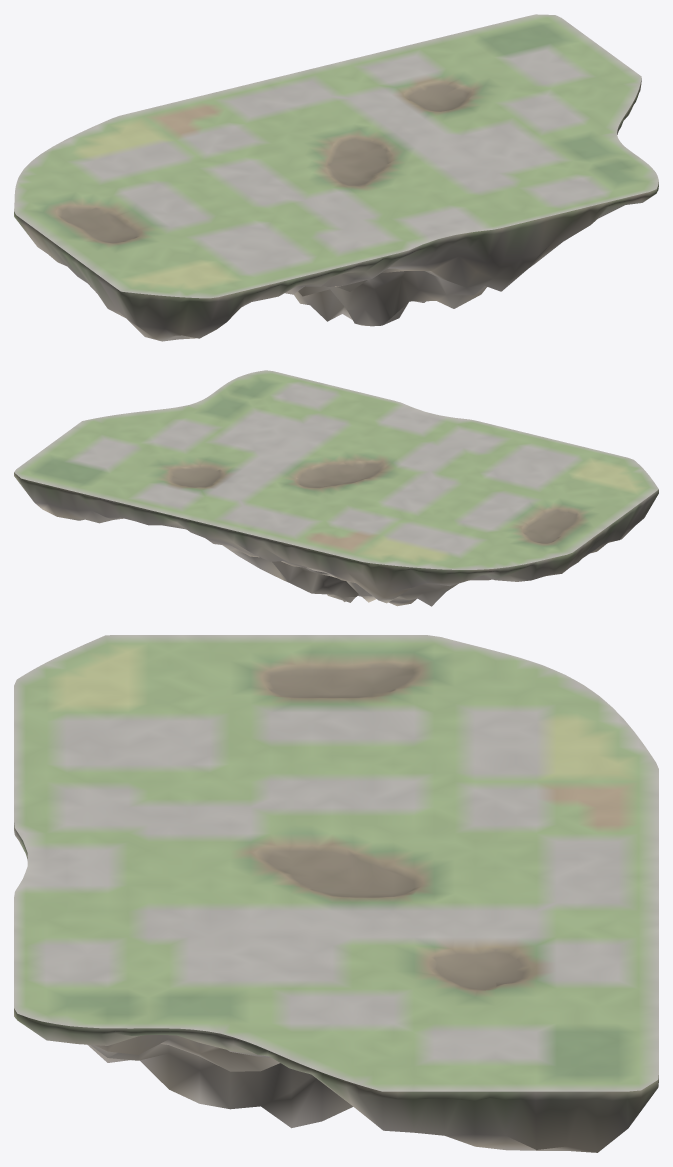
File: SKY-088.rock.glb
3 renders of one model, top to bottom at view 1: azimuth 30°, elevation 25°; view 2: azimuth 150°, elevation 25°; view 3: azimuth 270°, elevation 25°, orthographic. The views are drawn at different scales.
Parts seen in each view (by area): view 1: deck-col, rock; view 2: deck-col, rock; view 3: deck-col, rock.
Boxes of the visible parts, bbox=[...] form: deck-col: bbox=[14, 14, 658, 298]; rock: bbox=[14, 78, 658, 341]; deck-col: bbox=[14, 370, 658, 569]; rock: bbox=[14, 472, 658, 606]; deck-col: bbox=[14, 635, 658, 1091]; rock: bbox=[14, 823, 658, 1152].
Size of the model in its own units: 212 by 53.52 by 126.
